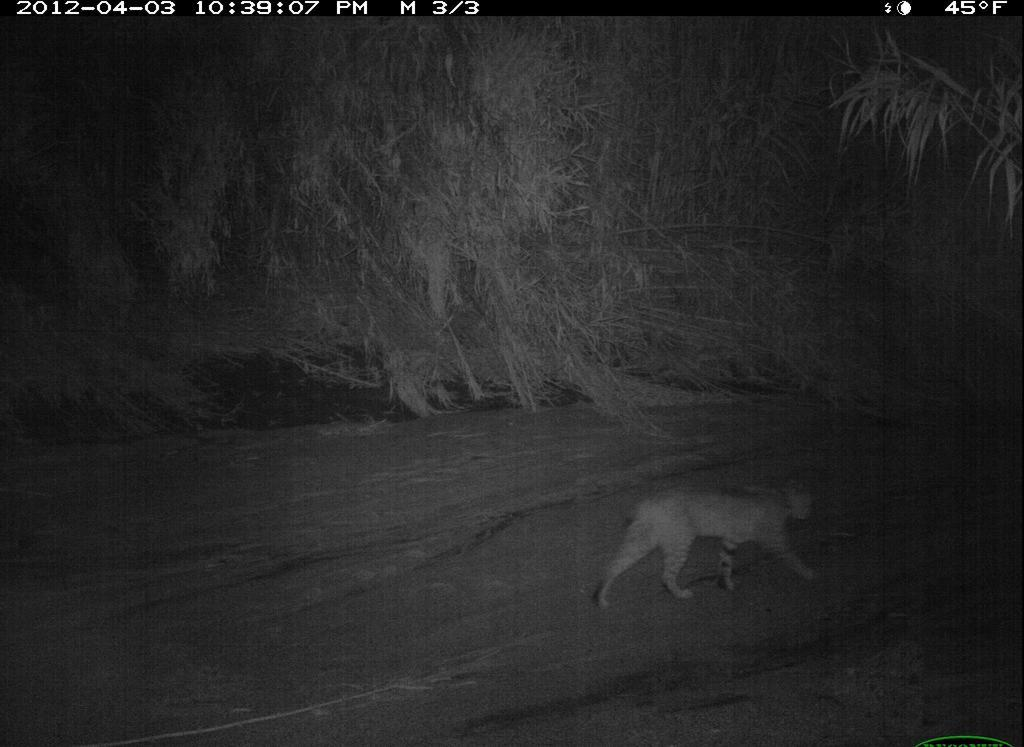bobcat: (591, 471, 826, 613)
